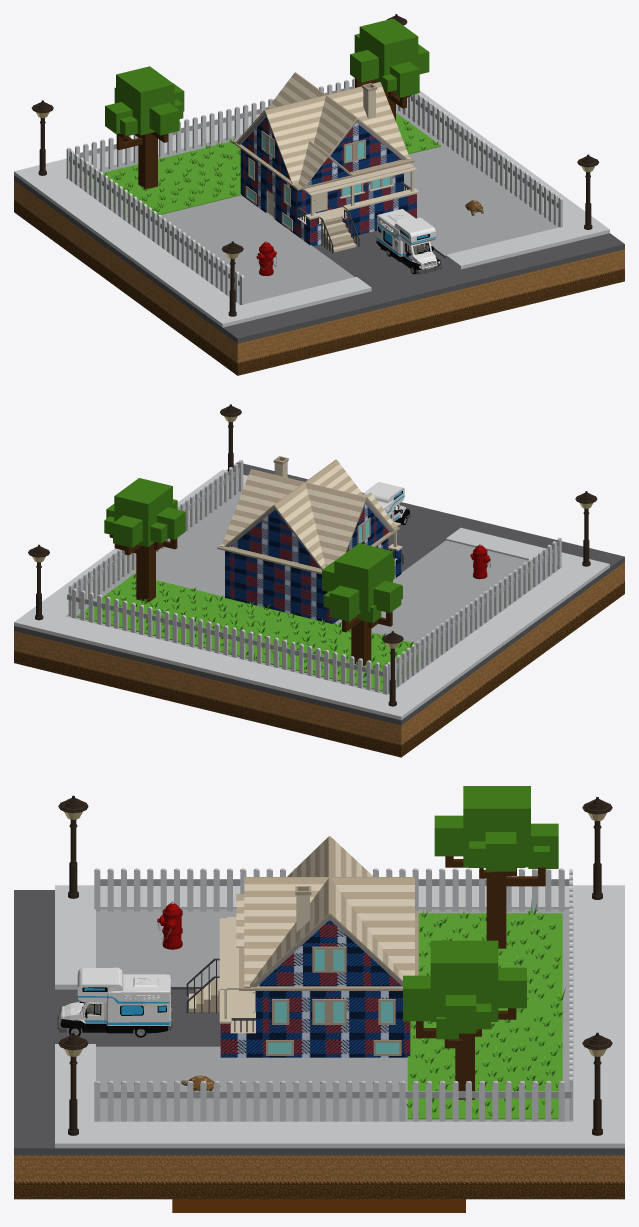
3 renders of one model, top to bottom at view 1: azimuth 30°, elevation 25°; view 2: azimuth 150°, elevation 25°; view 3: azimuth 270°, elevation 25°, orthographic. The views are drawn at different scales.
Parts seen in each view (by area): view 1: Cube.004, Cube.171, VEHICLES_CAMPER, OBJRANDOM_FIRE_HYDRANT; view 2: Cube.004, Cube.171, VEHICLES_CAMPER, OBJRANDOM_FIRE_HYDRANT; view 3: Cube.004, Cube.171, VEHICLES_CAMPER, UNDERGROUND_ART_PIECE_VAN_GOGH, OBJRANDOM_FIRE_HYDRANT.
Boxes of the visible parts, x1,y1,x2,y2 form: Cube.004: [14, 14, 624, 375]; Cube.171: [232, 72, 419, 253]; VEHICLES_CAMPER: [376, 209, 442, 274]; OBJRANDOM_FIRE_HYDRANT: [256, 240, 276, 275]; Cube.004: [14, 404, 624, 757]; Cube.171: [217, 456, 403, 623]; VEHICLES_CAMPER: [363, 482, 411, 525]; OBJRANDOM_FIRE_HYDRANT: [470, 544, 490, 579]; Cube.004: [14, 786, 624, 1199]; Cube.171: [186, 836, 418, 1057]; VEHICLES_CAMPER: [57, 967, 172, 1037]; UNDERGROUND_ART_PIECE_VAN_GOGH: [172, 1199, 465, 1212]; OBJRANDOM_FIRE_HYDRANT: [157, 901, 182, 949].
Bounding box in the file's own units: 4000 × 1726 × 4000.
Materials: 34 (5 with a texture image).
